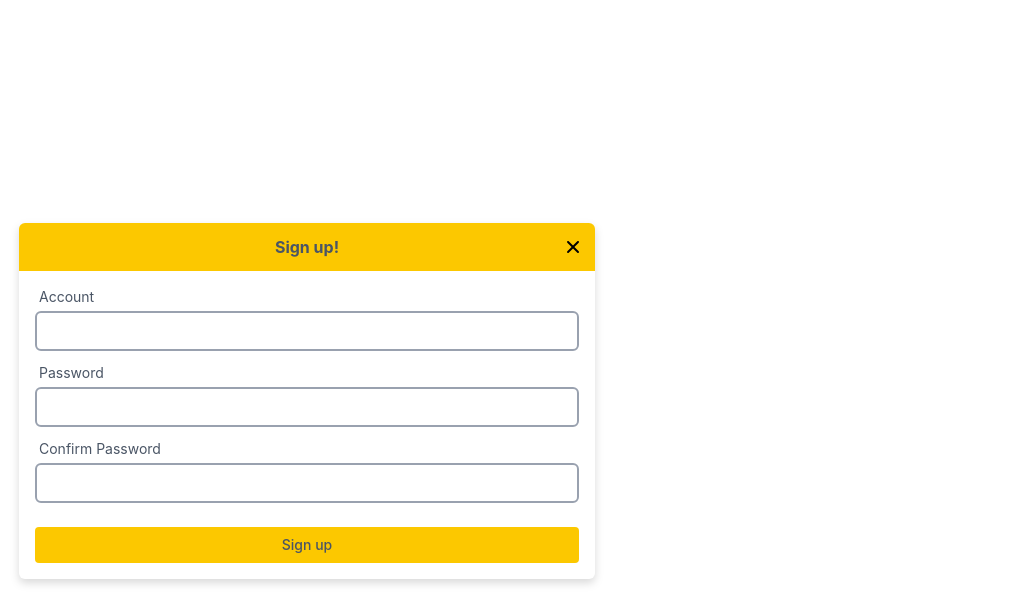
Scenario: AppHeader/SignUpPopup component › password must be the same as confirmation password
The width and height of the screenshot is (1027, 603).
Type "root" into the field labelled "Account" at (307, 331), box [35,311,579,351]
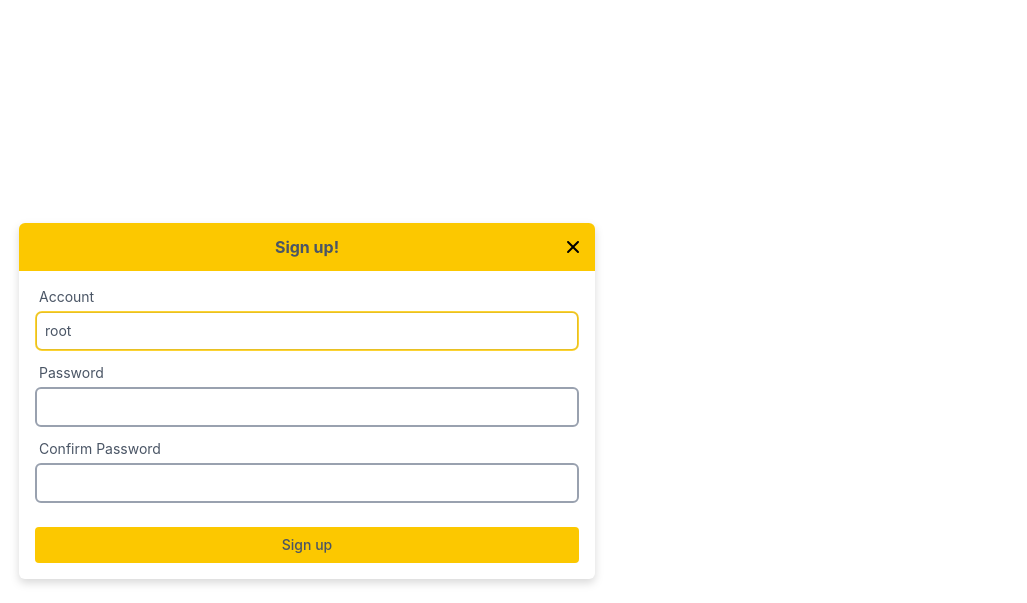
Type "123" into the password field labelled "Password" at (307, 407), box [35,387,579,427]
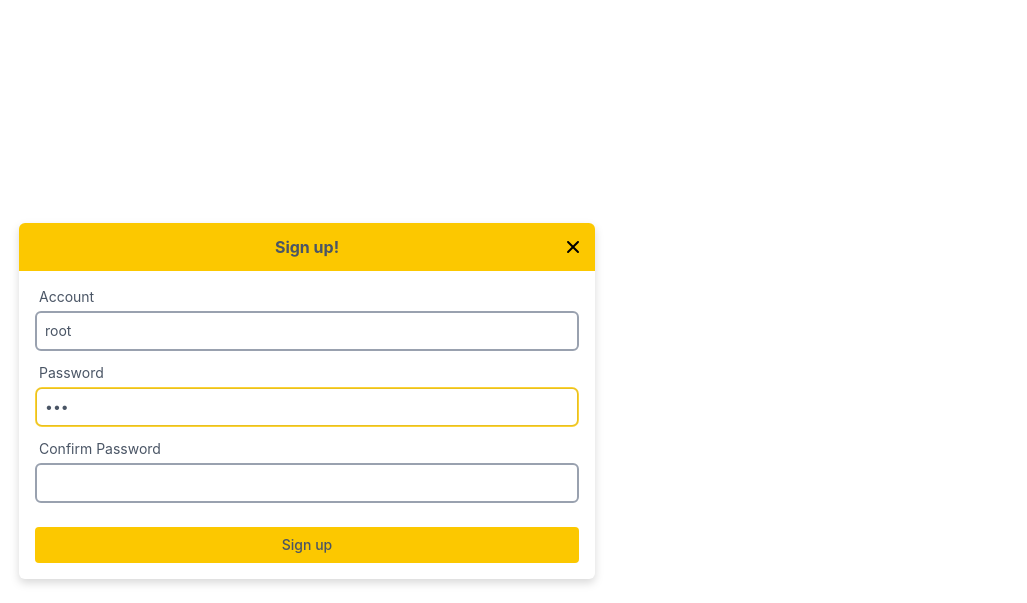
Type "1234" into the password field labelled "Confirm Password" at (307, 483), box [35,463,579,503]
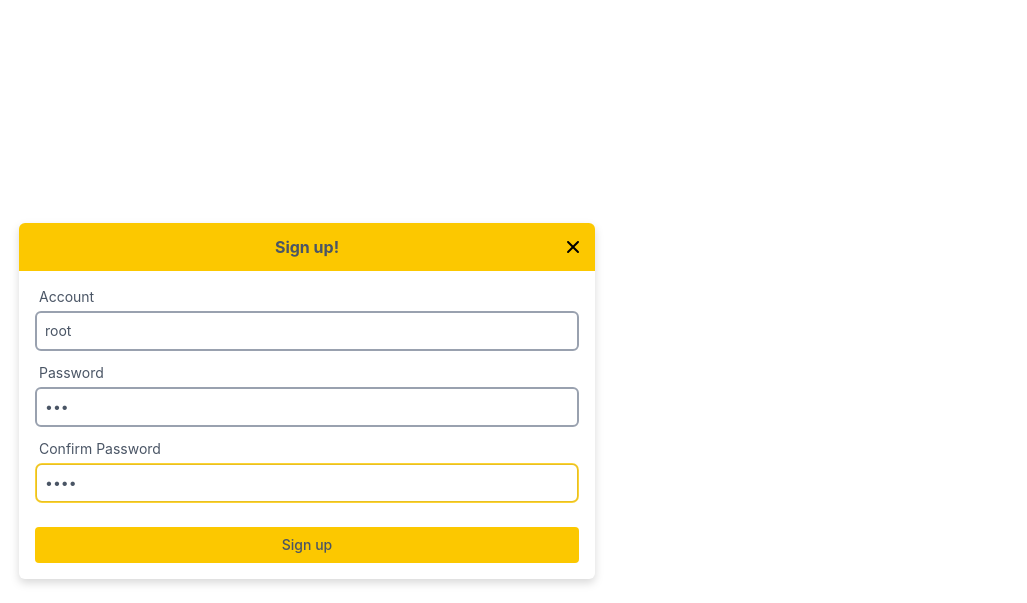
Click the button "Sign up" at (307, 545), box [35,527,579,563]
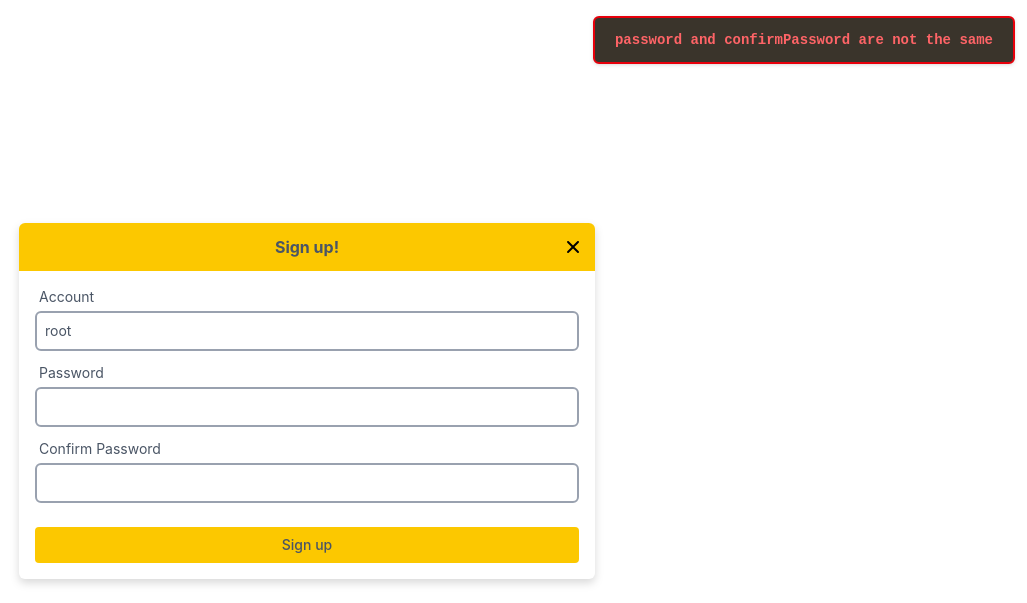
expect the text "password and confirmPassword are not the same" is shown: met, box [615,30,993,50]
